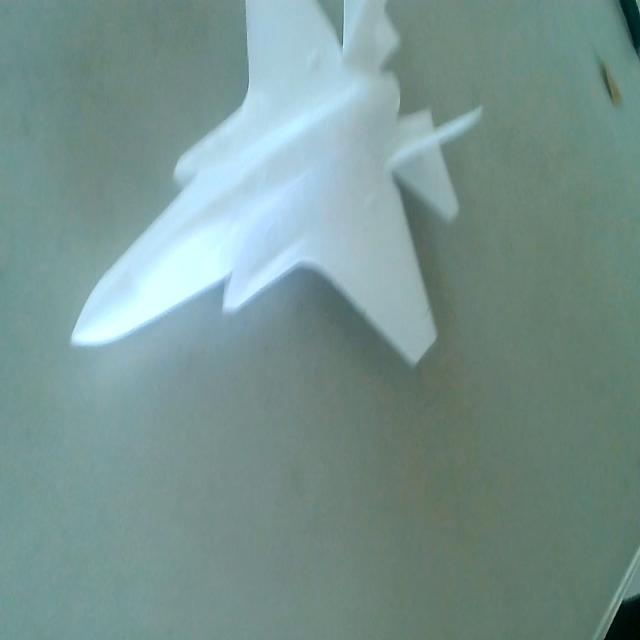Jet: (63, 0, 483, 397)
